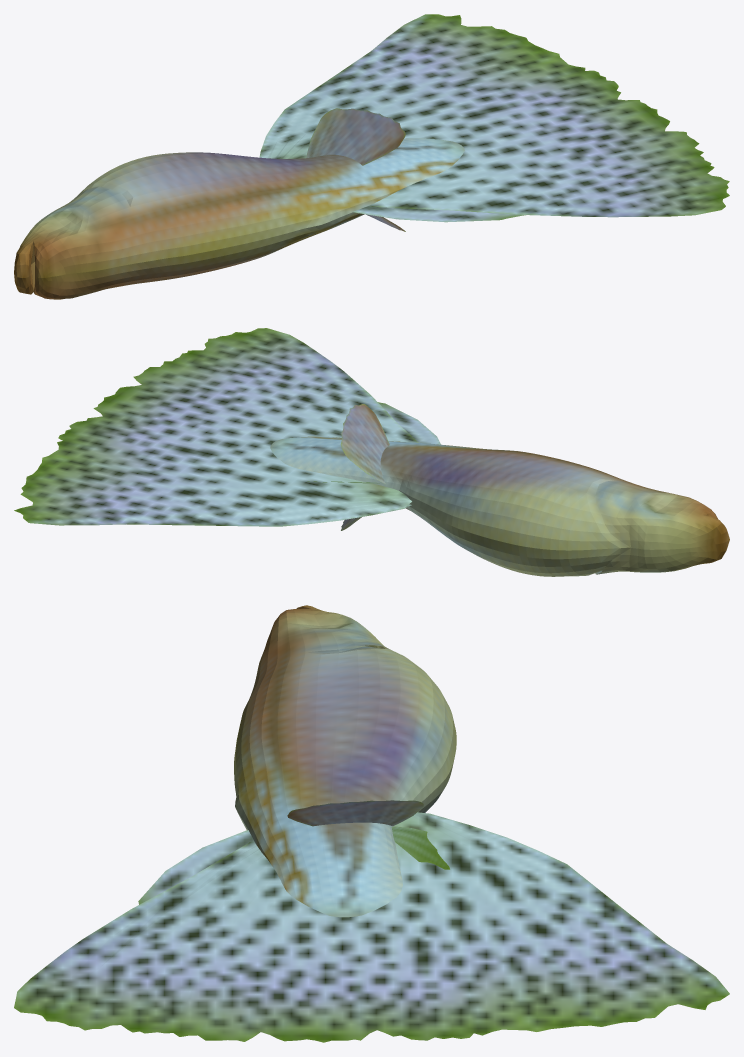
Rendered from GuppyBlueGrass0.obj.
The picture shows the model from 3 angles, top to bottom: view 1: azimuth 30°, elevation 25°; view 2: azimuth 150°, elevation 25°; view 3: azimuth 270°, elevation 25°; orthographic projection. The views are drawn at different scales.
Visible parts, largest first — view 1: object7, object, object4, object2; view 2: object7, object, object4, object2; view 3: object7, object, object4, object2, object6.
Part boxes in pixels (x1=…): object7: x1=259, y1=14, x2=729, y2=217; object: x1=14, y1=138, x2=464, y2=299; object4: x1=306, y1=108, x2=405, y2=165; object2: x1=353, y1=206, x2=525, y2=222; object7: x1=14, y1=328, x2=418, y2=526; object: x1=270, y1=436, x2=729, y2=576; object4: x1=340, y1=404, x2=389, y2=483; object2: x1=378, y1=402, x2=440, y2=444; object7: x1=14, y1=812, x2=729, y2=1042; object: x1=234, y1=605, x2=456, y2=917; object4: x1=287, y1=800, x2=423, y2=826; object2: x1=138, y1=830, x2=253, y2=904; object6: x1=391, y1=826, x2=449, y2=869.
Bounding box in the file's own units: 0.3342 × 0.0536 × 0.2436.
